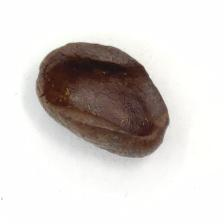NG: (40, 40, 168, 142)
